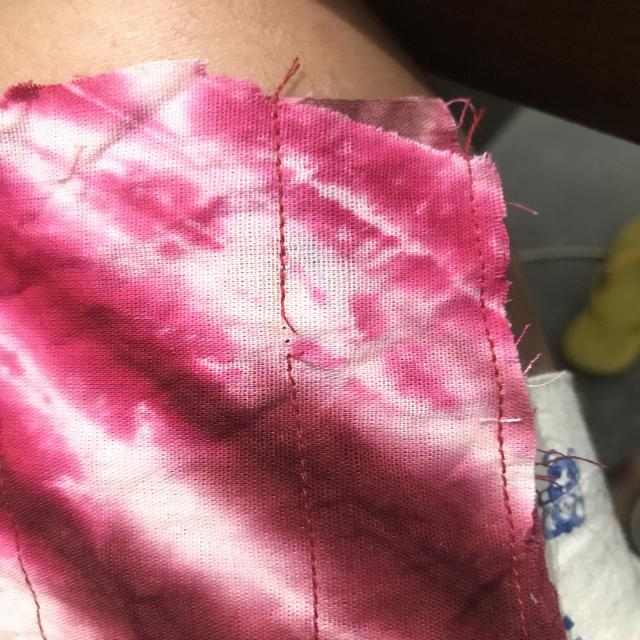broken: (254, 293, 324, 383)
good: (258, 155, 310, 262)
